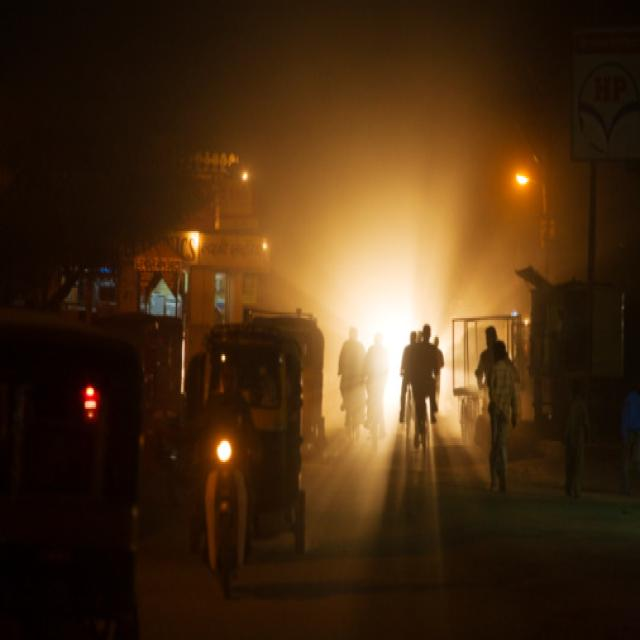Motorbike: (54, 311, 143, 510), (202, 356, 258, 584)
